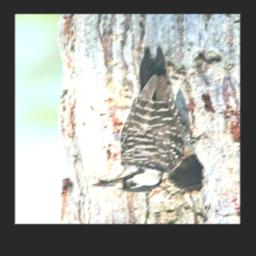Woodpecker: (90, 42, 210, 194)
